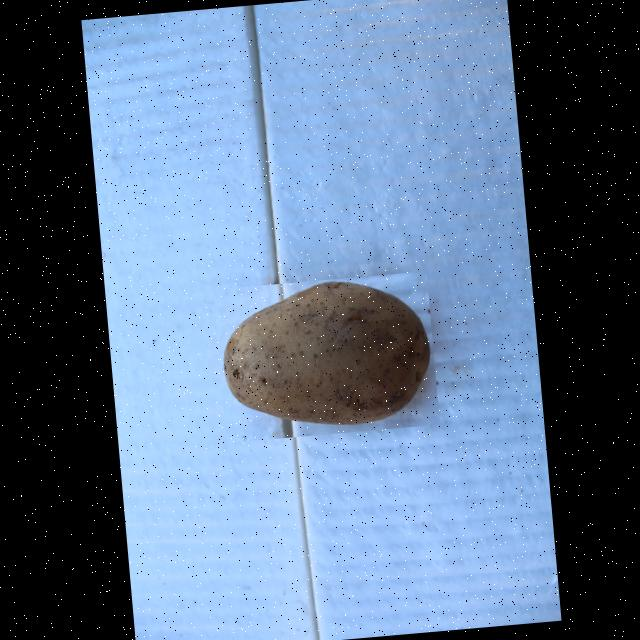Diseased-fungal potato: (212, 270, 438, 442)
